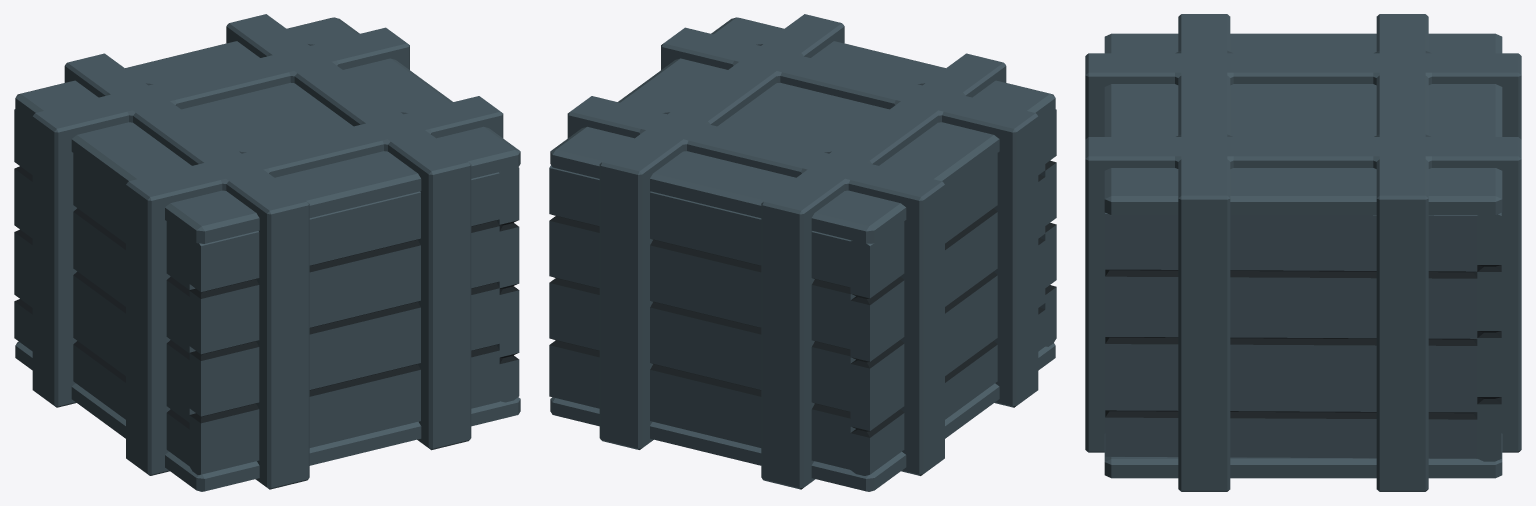
The model's file is GB_100_crate.glb.
3 renders of one model, left to right at view 1: azimuth 30°, elevation 25°; view 2: azimuth 150°, elevation 25°; view 3: azimuth 270°, elevation 25°, orthographic. The views are drawn at different scales.
Visible parts, largest first — view 1: Crate; view 2: Crate; view 3: Crate.
Part boxes in pixels (<box>): Crate: <box>14,14,520,491</box>; Crate: <box>549,14,1056,491</box>; Crate: <box>1085,14,1521,491</box>.
Bounding box in the file's own units: 1.5 × 1.12 × 1.5.
